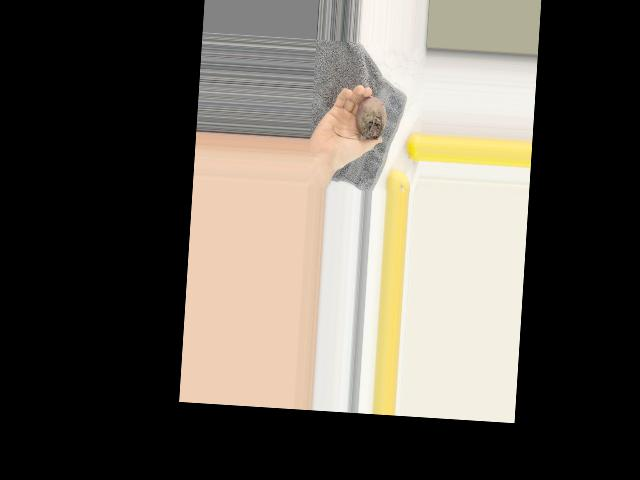beet: (332, 93, 387, 140)
